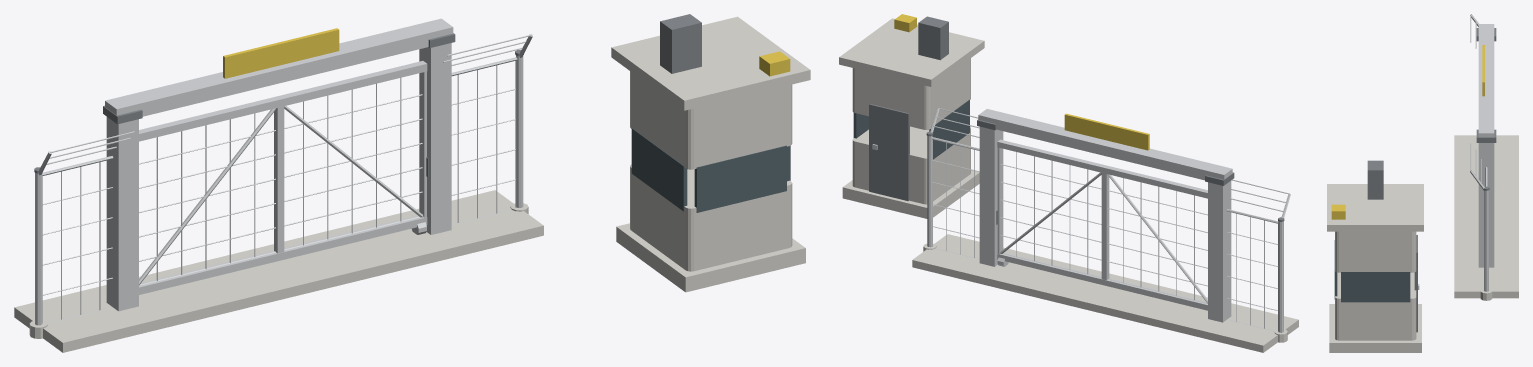
Rendered from cold-war-missile-silo-and-command-bunker-perimeter-gat-b683838a.glb.
3 views of the same model, side by side, from view 1: azimuth 30°, elevation 25°; view 2: azimuth 150°, elevation 25°; view 3: azimuth 270°, elevation 25° (orthographic). The views are drawn at different scales.
Parts seen in each view (by area): view 1: perimeter-gate-and-sentry-post, gate-leaf; view 2: perimeter-gate-and-sentry-post, gate-leaf; view 3: perimeter-gate-and-sentry-post.
Boxes of the visible parts, box(x1,y1,x2,y2) form: perimeter-gate-and-sentry-post: box(14, 14, 810, 352); gate-leaf: box(139, 61, 427, 294); perimeter-gate-and-sentry-post: box(839, 14, 1298, 352); gate-leaf: box(997, 139, 1207, 310); perimeter-gate-and-sentry-post: box(1327, 14, 1518, 352).
Bounding box in the file's own units: 10.98 × 3.78 × 4.15.
